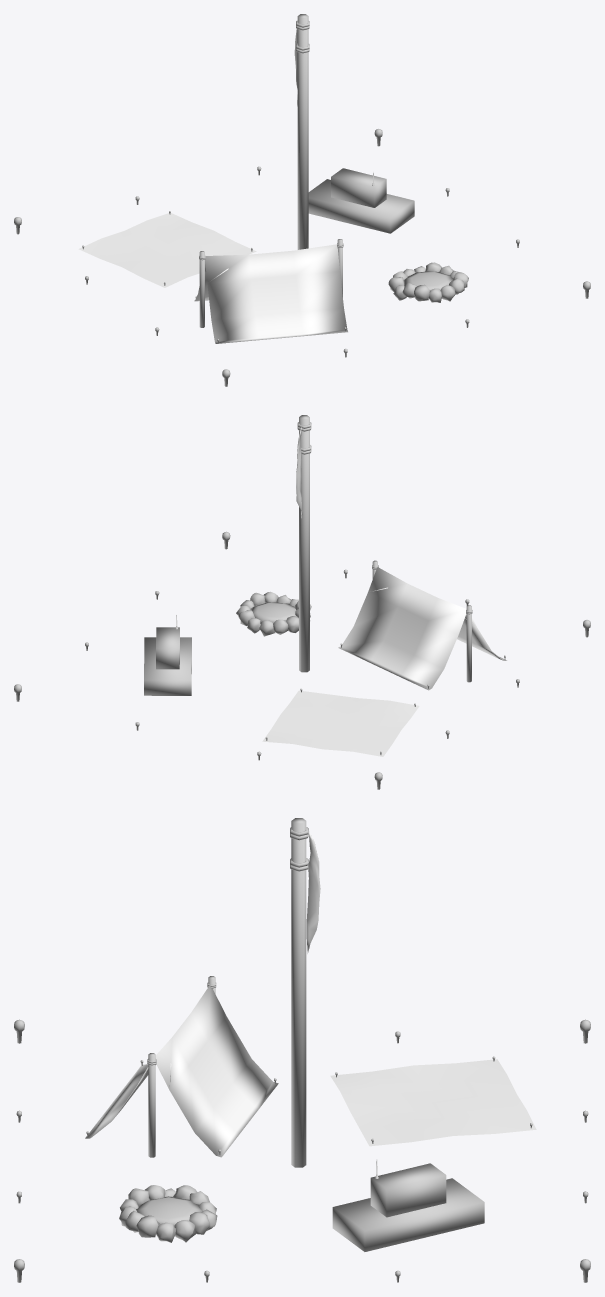
Rendered from basecamp.fbx.
3 renders of one model, top to bottom at view 1: azimuth 30°, elevation 25°; view 2: azimuth 150°, elevation 25°; view 3: azimuth 270°, elevation 25°, orthographic. The views are drawn at different scales.
Parts seen in each view (by area): view 1: Sphere; view 2: Sphere; view 3: Sphere.
Boxes of the visible parts, x1,y1,x2,y2 form: Sphere: (14, 14, 590, 386); Sphere: (14, 415, 590, 789); Sphere: (14, 818, 590, 1282).
Bounding box in the file's own units: 17.89 × 12.07 × 17.84.
